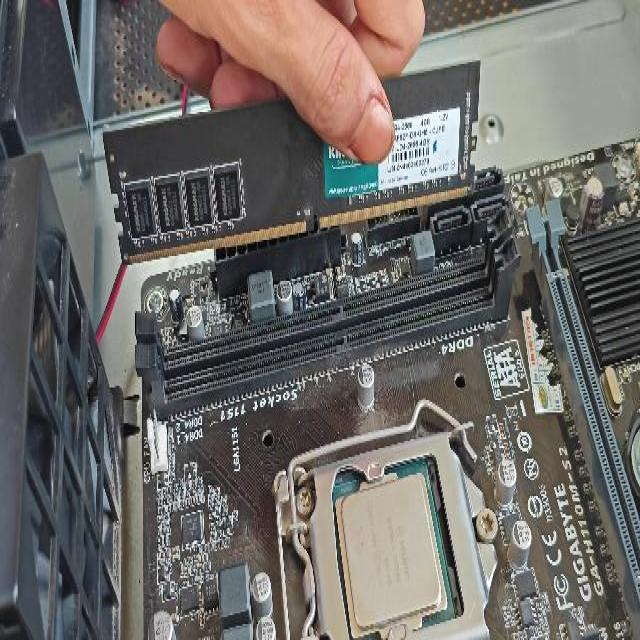CPU: (334, 470, 448, 636)
Mainboard: (134, 133, 639, 640)
RAM: (101, 57, 480, 265)
